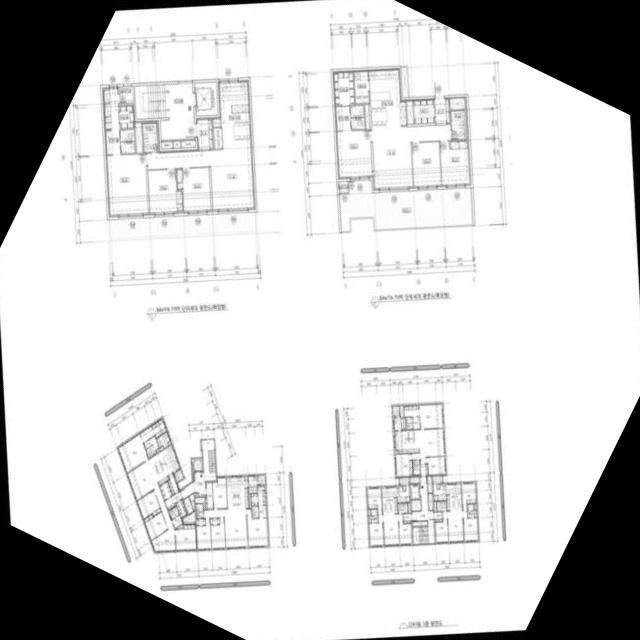background: (0, 0, 640, 640)
space_balconi: (173, 469, 183, 482), (257, 475, 265, 485)
space_bedroom: (106, 154, 148, 216), (336, 130, 372, 179), (148, 169, 183, 214), (176, 167, 211, 212), (440, 140, 471, 186), (411, 142, 441, 187), (117, 433, 148, 472), (246, 508, 268, 547), (137, 490, 161, 519), (143, 511, 167, 540), (175, 523, 196, 550), (419, 404, 442, 428), (196, 518, 211, 549), (210, 517, 225, 548), (212, 477, 227, 508), (461, 483, 476, 510), (395, 453, 412, 476), (367, 488, 382, 514), (463, 517, 478, 540), (426, 456, 445, 474), (369, 522, 383, 545), (398, 521, 412, 543), (435, 519, 448, 542), (196, 518, 205, 525), (210, 518, 219, 524)
space_dressroom: (332, 71, 354, 105), (102, 86, 119, 129), (119, 103, 134, 128), (151, 418, 167, 438), (404, 405, 419, 416), (257, 486, 265, 504), (251, 493, 258, 505)
space_elevator: (195, 81, 217, 115), (410, 484, 420, 499), (191, 458, 202, 471)
space_elevator_hall: (180, 439, 216, 499), (160, 83, 195, 140), (412, 476, 434, 526)
space_front: (196, 117, 213, 149), (434, 98, 450, 123), (165, 491, 181, 509), (160, 481, 172, 500), (205, 482, 213, 509), (176, 499, 187, 518), (420, 464, 428, 475), (403, 513, 411, 523), (434, 512, 442, 521)
space_kitchen: (218, 80, 252, 149), (368, 68, 406, 128), (149, 444, 180, 485), (382, 486, 410, 515), (433, 484, 462, 511), (226, 476, 248, 509), (394, 430, 419, 453)
space_living_room: (147, 148, 255, 211), (371, 124, 451, 190), (127, 459, 175, 552), (203, 508, 247, 548), (412, 428, 444, 464), (442, 510, 467, 541), (378, 514, 403, 544)
space_multipurpose_space: (353, 70, 369, 103)
space_other: (413, 98, 434, 123), (167, 473, 179, 495), (156, 431, 170, 448), (401, 66, 408, 97), (135, 121, 142, 152), (213, 127, 222, 148), (183, 496, 193, 514), (406, 99, 413, 123), (450, 97, 464, 109), (248, 475, 257, 493), (394, 416, 405, 430), (183, 511, 195, 522), (364, 104, 369, 129), (195, 497, 205, 508), (411, 500, 421, 510), (181, 140, 195, 147), (189, 493, 194, 510), (427, 476, 432, 493), (428, 493, 433, 510), (161, 141, 172, 148), (412, 521, 427, 526), (212, 117, 220, 126), (410, 477, 419, 483), (173, 141, 180, 148), (156, 446, 163, 452), (400, 406, 404, 416), (407, 502, 410, 513), (176, 524, 183, 528), (249, 493, 251, 507), (434, 501, 436, 511), (192, 473, 194, 481), (244, 475, 247, 480), (194, 493, 198, 496), (474, 503, 476, 509), (368, 509, 370, 515), (168, 441, 171, 445), (395, 450, 398, 453), (437, 485, 439, 488), (403, 487, 405, 490)
space_outdoor_room: (119, 86, 133, 100), (338, 181, 348, 193), (392, 405, 400, 416), (399, 477, 409, 485), (432, 476, 442, 483)
space_staircase: (134, 84, 169, 119), (412, 525, 435, 544), (208, 450, 215, 472)
space_toilet: (104, 129, 135, 154), (334, 105, 364, 130), (451, 110, 466, 139), (142, 123, 157, 152), (143, 436, 158, 457), (139, 425, 154, 442), (405, 416, 419, 429), (172, 515, 182, 528), (369, 509, 378, 522), (467, 504, 476, 517), (412, 460, 420, 474), (196, 503, 203, 518), (437, 501, 447, 511), (397, 503, 407, 513), (258, 505, 266, 517), (172, 506, 179, 517), (169, 508, 175, 519), (251, 506, 258, 512), (252, 512, 259, 517)
